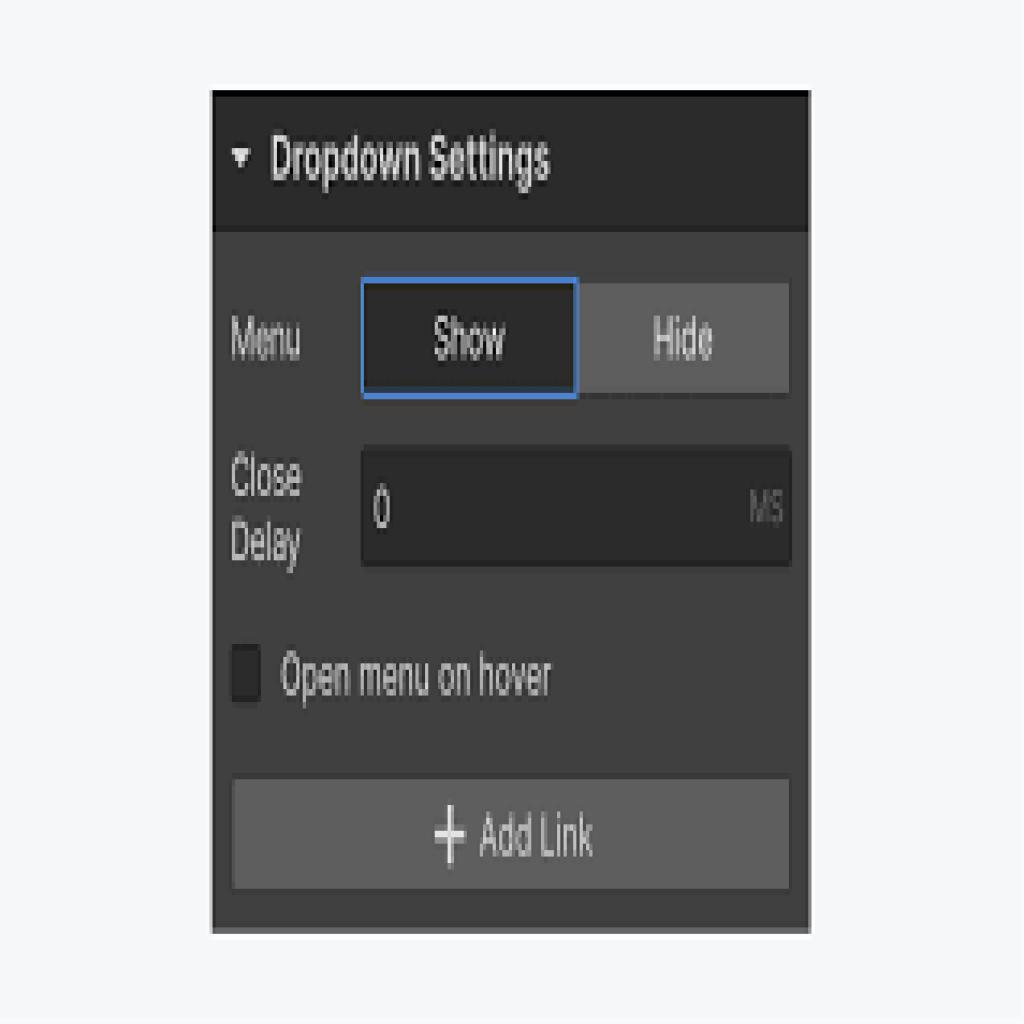button: (230, 776, 795, 893), (361, 277, 582, 401), (580, 280, 790, 398)
checkbox: (228, 640, 266, 708)
input: (361, 448, 794, 569)
